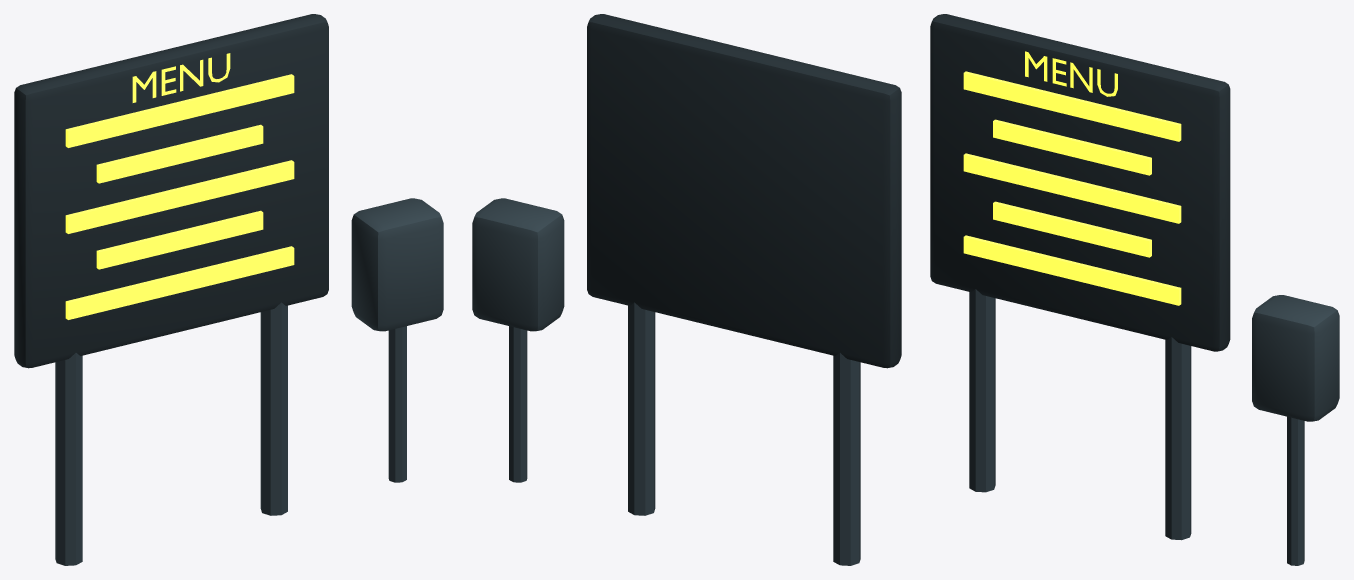
Rendered from roadevents_menuboard.glb.
3 views of the same model, side by side, from view 1: azimuth 30°, elevation 25°; view 2: azimuth 150°, elevation 25°; view 3: azimuth 330°, elevation 25° (orthographic). The views are drawn at different scales.
Visible parts, largest first — view 1: MenuBoard; view 2: MenuBoard; view 3: MenuBoard.
Boxes of the visible parts, x1,y1,x2,y2 form: MenuBoard: [14, 14, 443, 565]; MenuBoard: [472, 14, 901, 565]; MenuBoard: [930, 14, 1339, 565].
Bounding box in the file's own units: 2.02 × 2.25 × 0.25.
